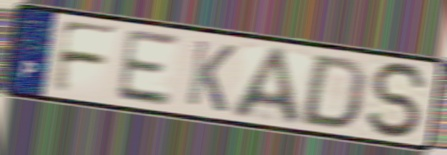A: (228, 44, 306, 129)
D: (297, 52, 371, 131)
E: (112, 26, 181, 109)
F: (49, 17, 124, 96)
K: (183, 37, 239, 116)
S: (366, 60, 432, 141)
